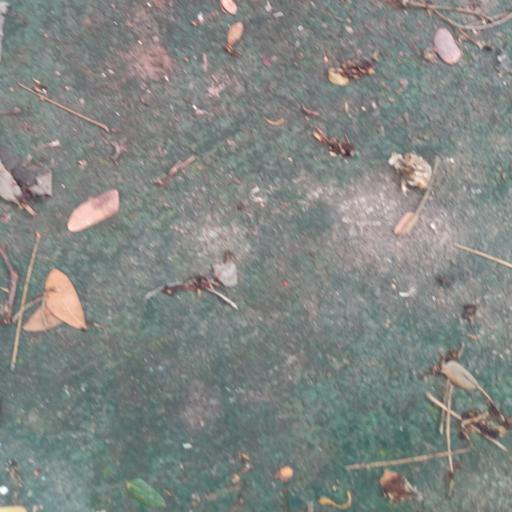algae: (3, 4, 512, 512)
